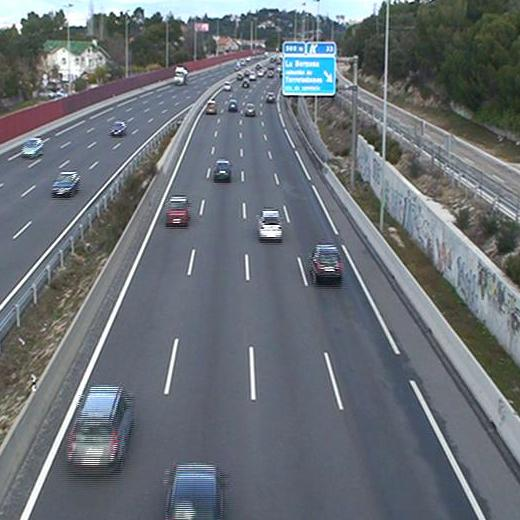car: (65, 386, 130, 471), (164, 462, 224, 520), (307, 245, 344, 276), (254, 211, 284, 239), (164, 197, 188, 226), (213, 160, 232, 178), (205, 99, 218, 112), (244, 103, 256, 115), (229, 99, 239, 112), (267, 91, 276, 103)
